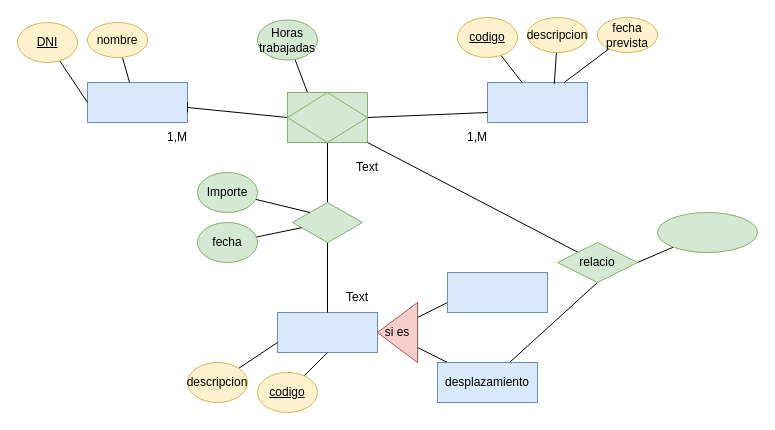
Some shapes in this 775 by 430 pixel diagram are drawn without their labels. The box of each missing label's shape, as (x1, y1, x2, y2) in pixels:
comidas: (446, 272, 548, 312)
Dietas: (276, 312, 378, 352)
KM HECHOS: (656, 212, 758, 252)
Pagan: (292, 202, 362, 242)
Proyecto: (486, 82, 588, 122)
Trabaja: (286, 92, 368, 142)
Trabajador: (86, 82, 188, 122)
